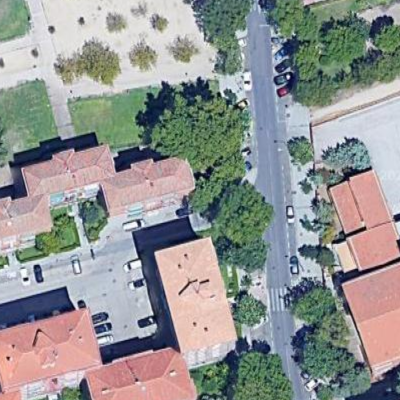tree: (151, 92, 247, 160), (296, 324, 368, 393), (195, 1, 255, 76), (232, 346, 299, 400), (59, 38, 125, 86), (216, 187, 269, 238), (320, 20, 370, 62), (265, 1, 321, 38), (322, 135, 372, 171), (291, 283, 339, 318), (297, 69, 340, 107), (231, 289, 269, 330), (221, 239, 268, 272), (352, 54, 400, 85), (299, 242, 336, 271), (128, 41, 160, 74), (375, 19, 400, 57), (286, 134, 316, 165), (170, 35, 198, 66), (291, 40, 323, 66), (102, 9, 130, 33), (80, 205, 105, 226)
